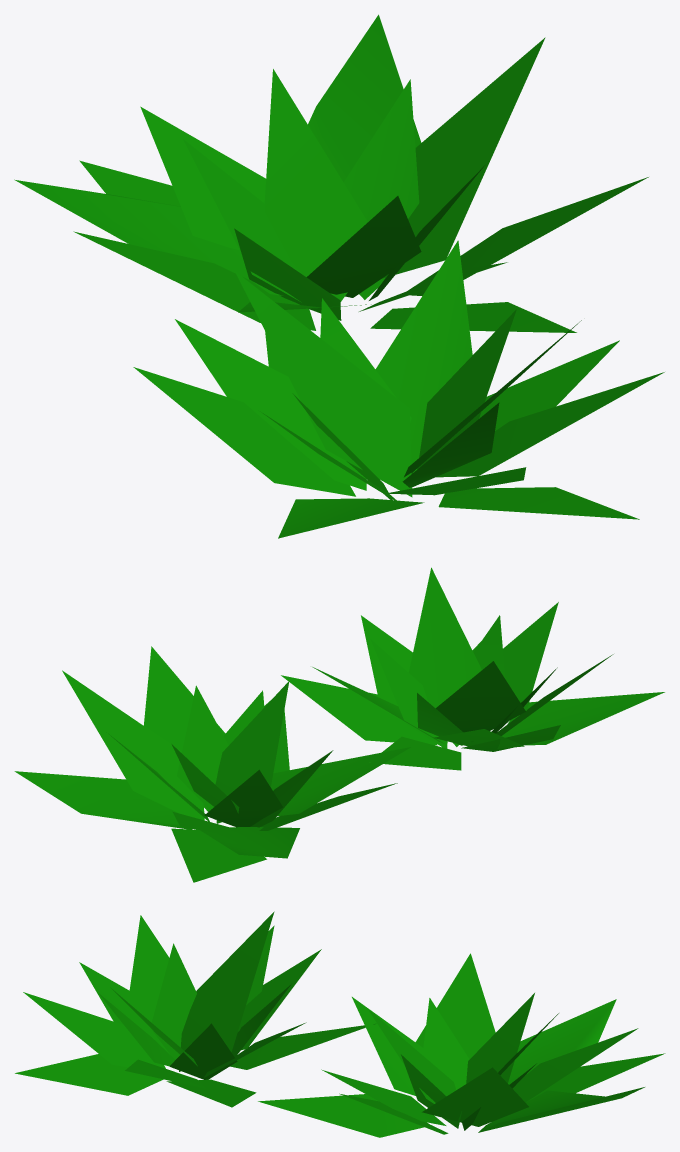
The model's file is SM_Bush_002_LOD6.fbx.
The picture shows the model from 3 angles, top to bottom: view 1: azimuth 30°, elevation 25°; view 2: azimuth 150°, elevation 25°; view 3: azimuth 270°, elevation 25°; orthographic projection. The views are drawn at different scales.
Parts seen in each view (by area): view 1: Bush_02; view 2: Bush_02; view 3: Bush_02.
Part boxes in pixels (x1,y1,x2,y2): Bush_02: (14, 14, 664, 538); Bush_02: (14, 567, 664, 882); Bush_02: (15, 911, 665, 1137).
Bounding box in the file's own units: 514 × 173 × 765.
